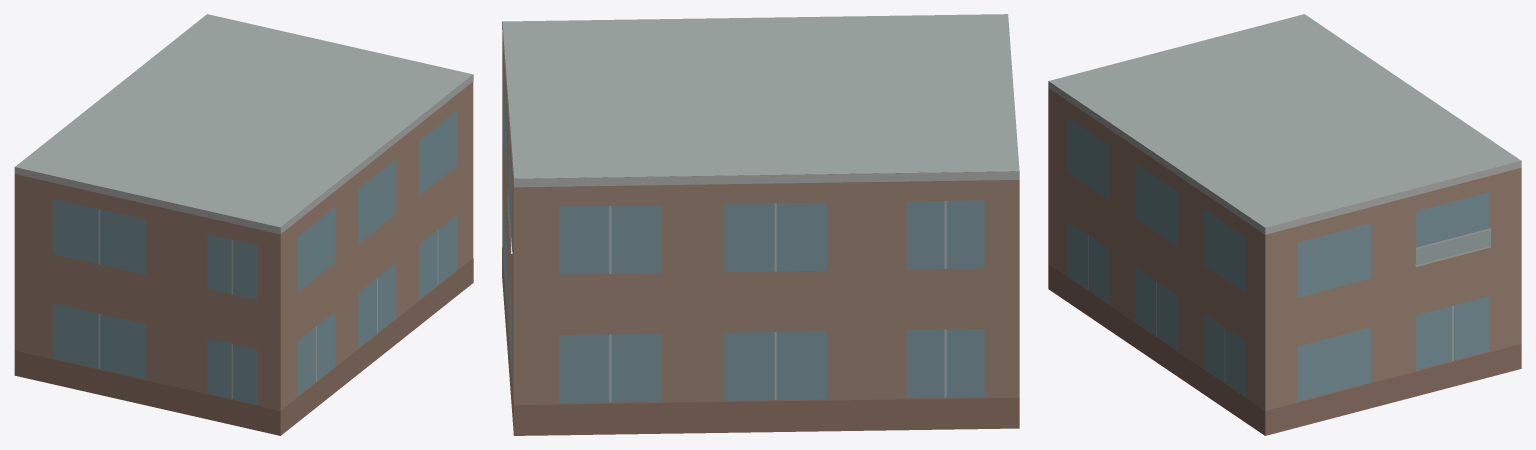
The model's file is survey-upis-32625096.glb.
3 views of the same model, side by side, from view 1: azimuth 30°, elevation 25°; view 2: azimuth 150°, elevation 25°; view 3: azimuth 270°, elevation 25° (orthographic). The views are drawn at different scales.
Visible parts, largest first — view 1: survey-upis-32625096.tmp; view 2: survey-upis-32625096.tmp; view 3: survey-upis-32625096.tmp.
Boxes of the visible parts, x1=… form: survey-upis-32625096.tmp: x1=14, y1=14, x2=473, y2=435; survey-upis-32625096.tmp: x1=502, y1=14, x2=1019, y2=435; survey-upis-32625096.tmp: x1=1048, y1=14, x2=1521, y2=435.
Bounding box in the file's own units: 16.1 × 7.3 × 15.05.
